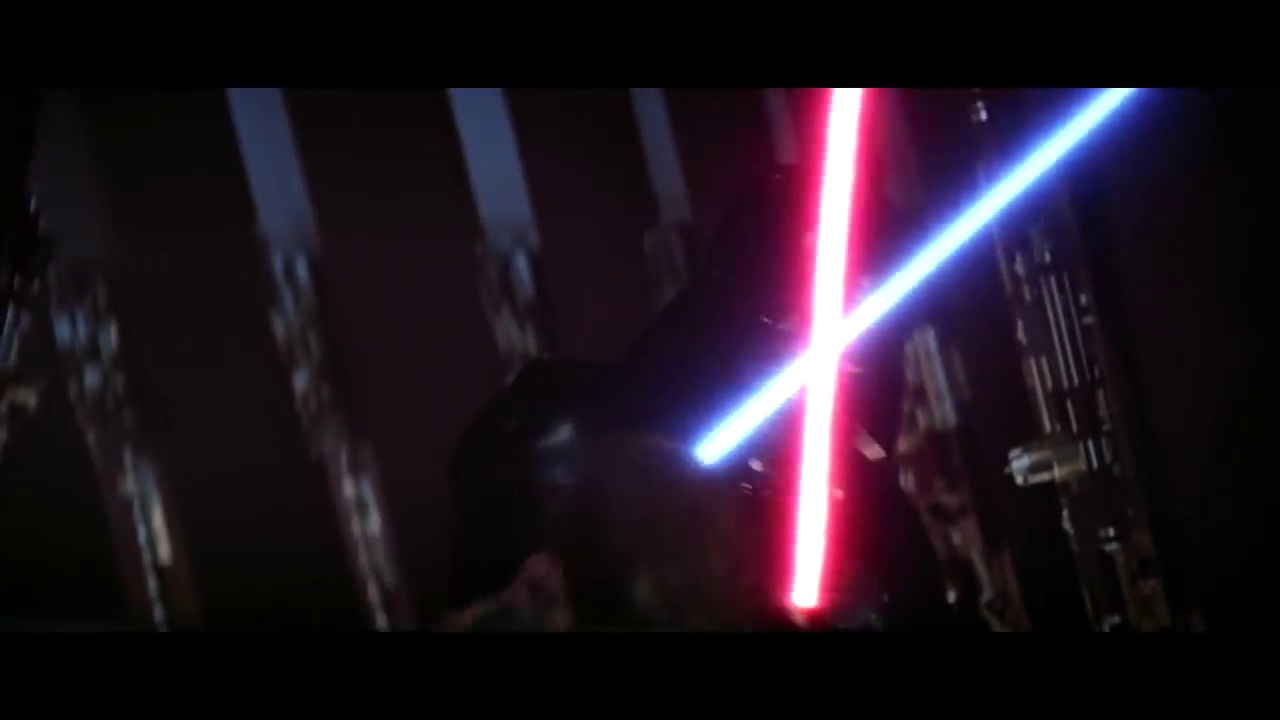lightsaber: (690, 90, 1090, 617)
